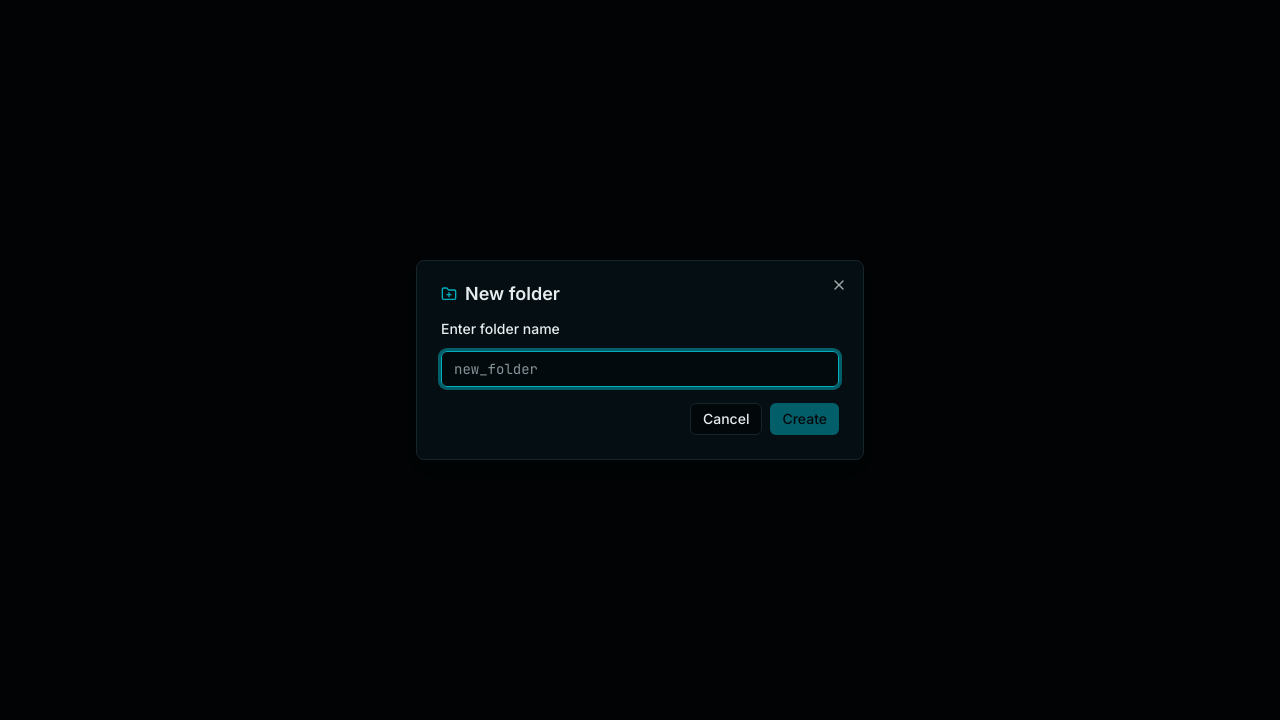
Scenario: CreateFolderDialog › should show error for name containing /
The width and height of the screenshot is (1280, 720).
Type "folder/name" into the field with placeholder "new_folder" at (640, 369), box [441,351,839,387]
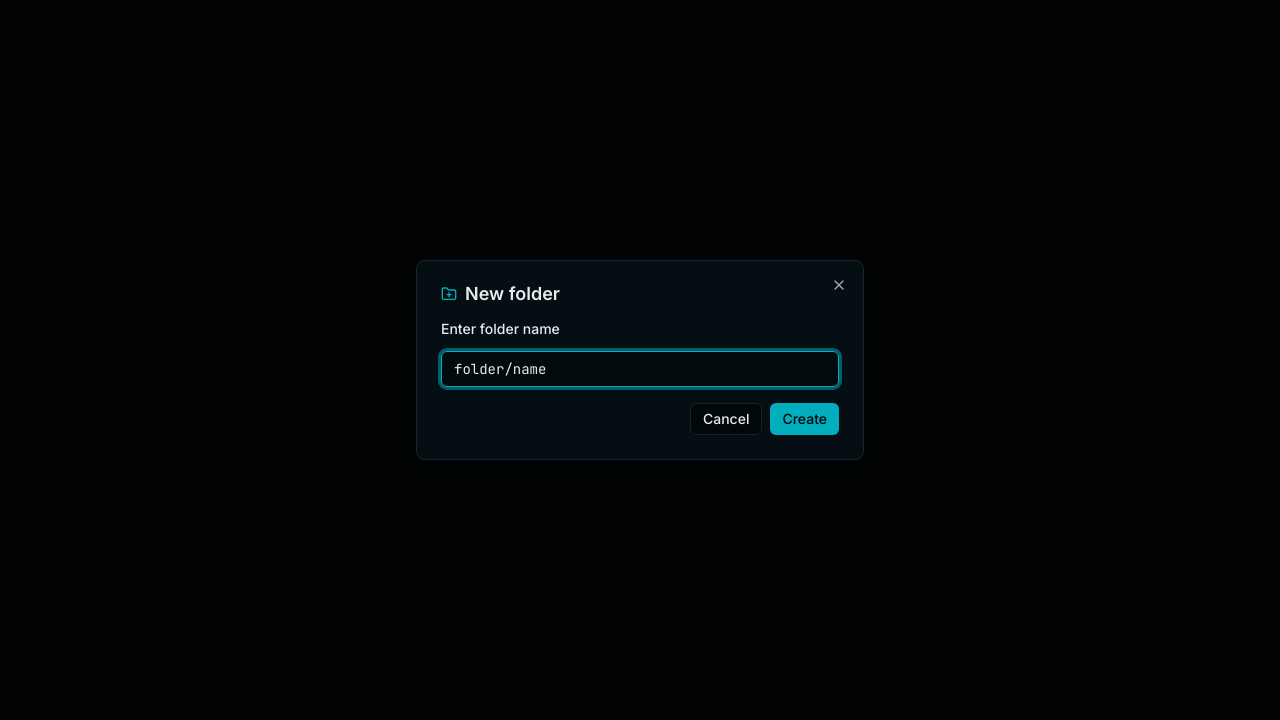
Click the button "Create" at (805, 419), box [770,403,839,435]
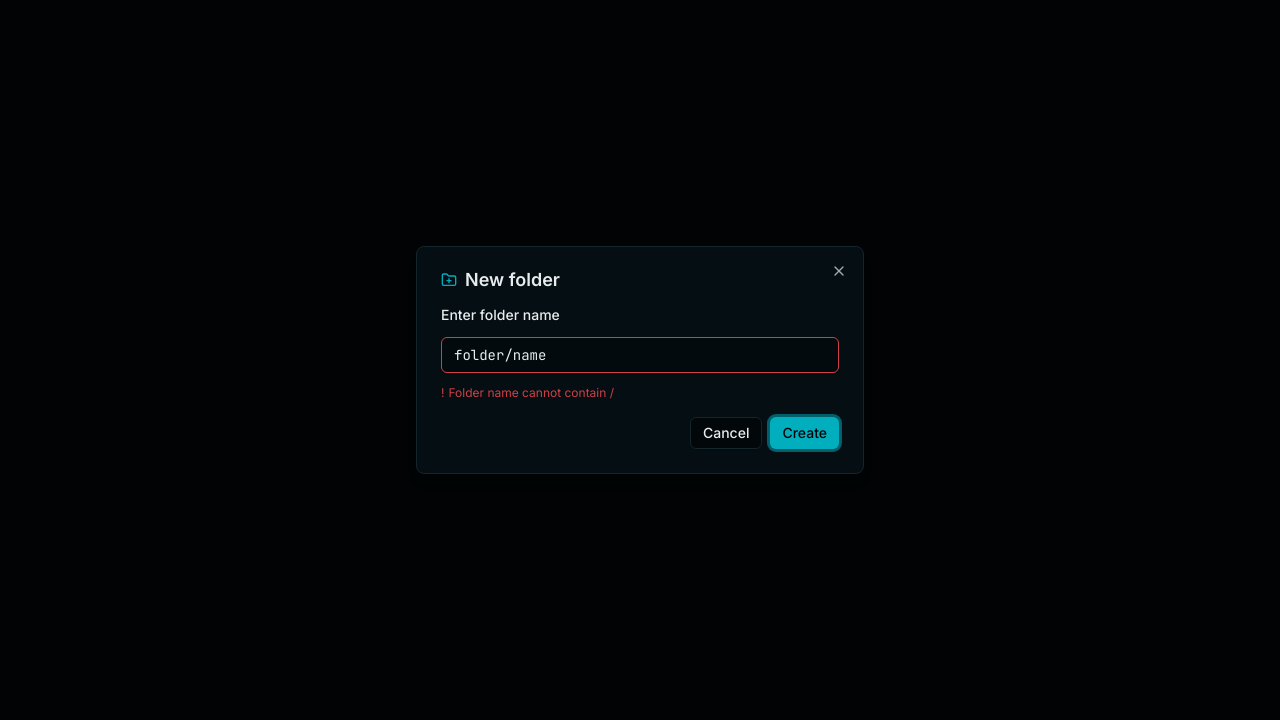
Result: the text "! Folder name cannot contain /" is shown at [441,385,614,400]
